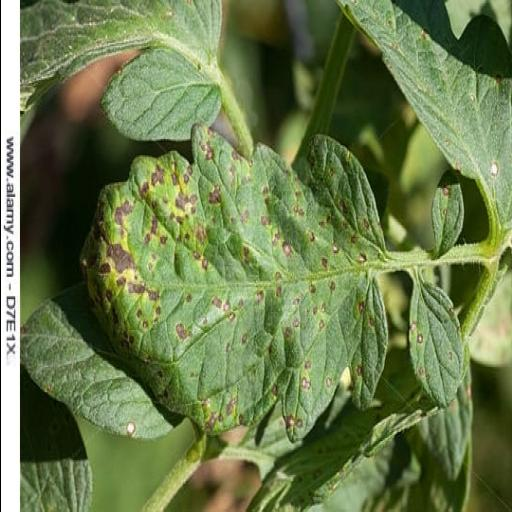Septoria: (76, 128, 392, 450), (336, 0, 512, 224), (20, 281, 188, 440), (404, 282, 462, 409), (431, 166, 465, 254)
